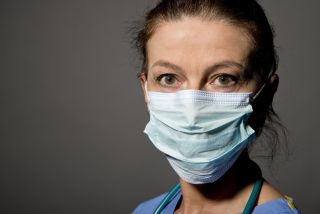surgical: (139, 85, 257, 186)
